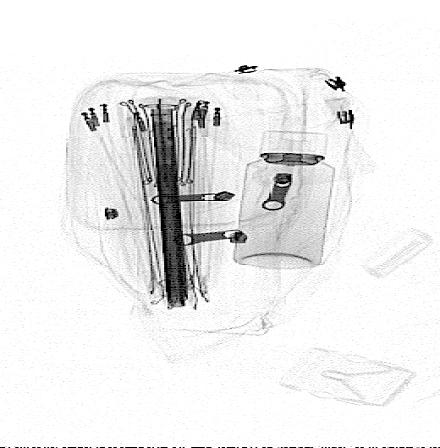Sprayer: (234, 130, 335, 270)
